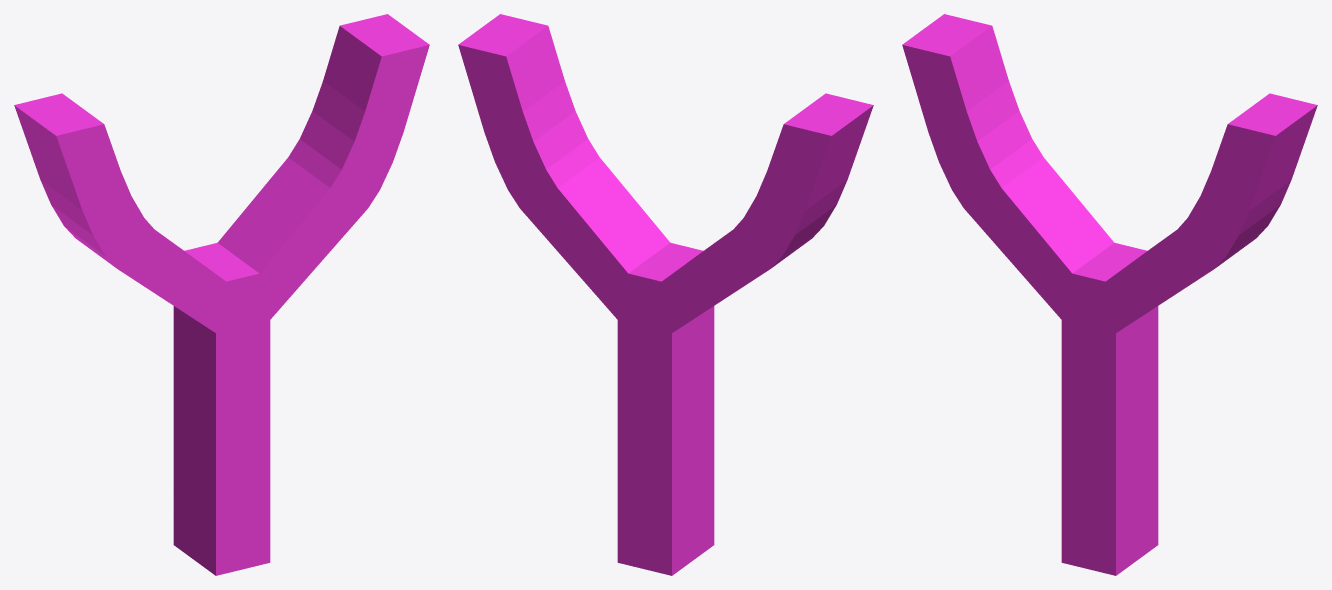
File: slingshot.glb
The picture shows the model from 3 angles, left to right: view 1: azimuth 30°, elevation 25°; view 2: azimuth 150°, elevation 25°; view 3: azimuth 330°, elevation 25°; orthographic projection.
Visible parts, largest first — view 1: Cube; view 2: Cube; view 3: Cube.
Part boxes in pixels (bbox=[...]): Cube: bbox=[14, 14, 429, 575]; Cube: bbox=[458, 14, 873, 575]; Cube: bbox=[902, 14, 1317, 575].
Bounding box in the file's own units: 2.68 × 3.28 × 0.5234.
